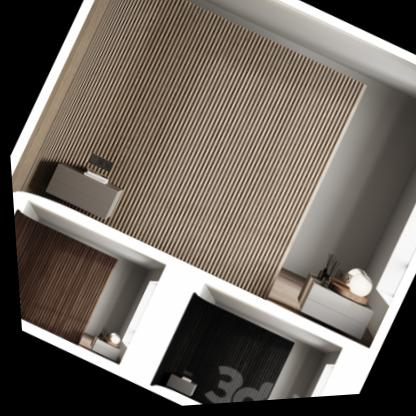Wall Panel: (0, 0, 381, 321), (137, 286, 297, 410), (11, 203, 120, 351)
